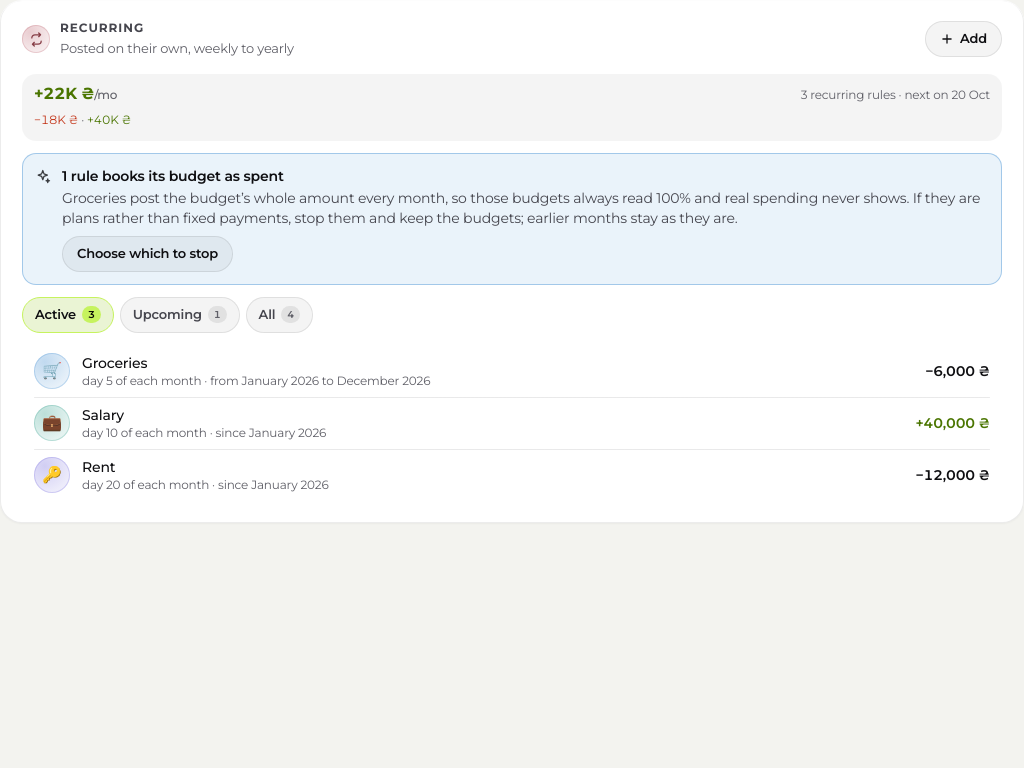
it: RecurringCard › shows the waiting rules on request
This screenshot has width=1024, height=768.
Step 1. Click the radio button labelled "Upcoming 1" → point(180, 315), box [120,297,240,333]
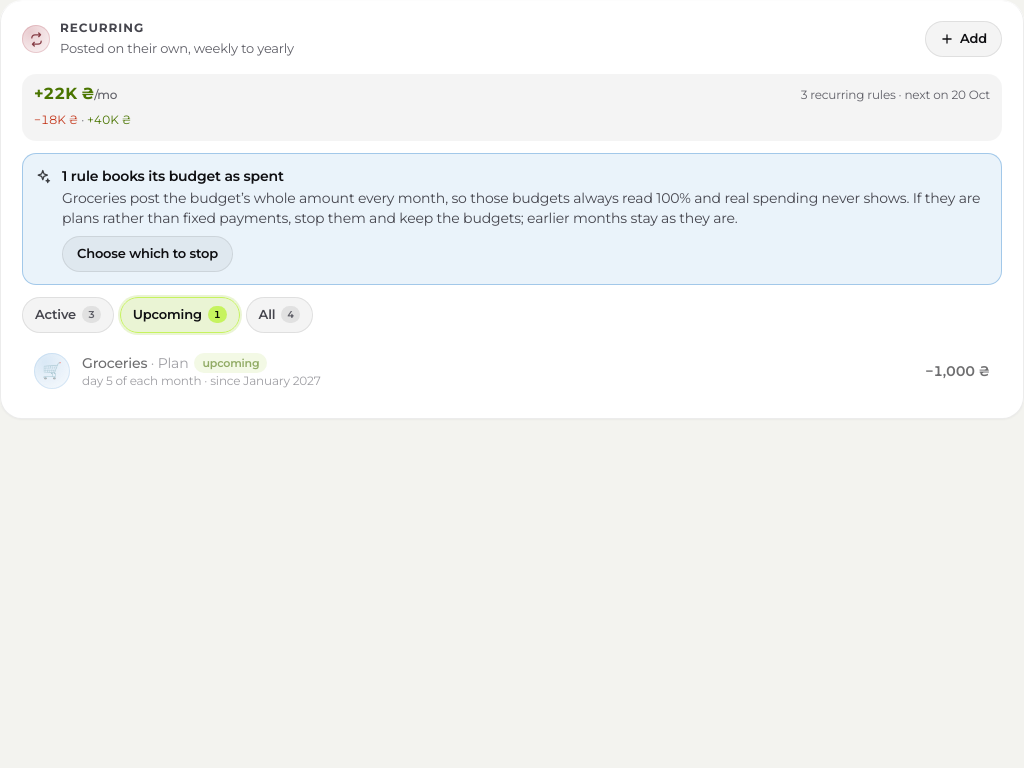
Expected: the text "upcoming" is shown, [194,353,268,373]
